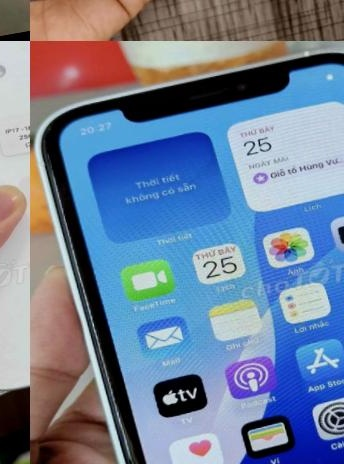scratch: (36, 118, 68, 141)
